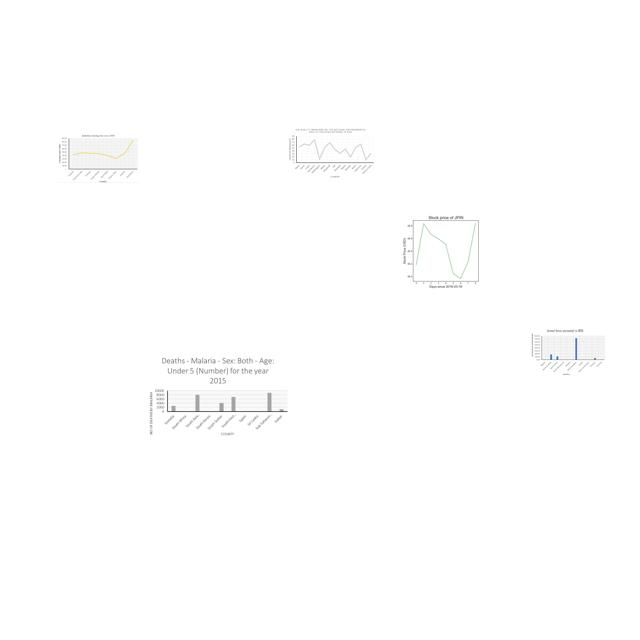Graph: (145, 353, 291, 440), (392, 211, 497, 290), (286, 127, 375, 180), (58, 134, 139, 183), (530, 328, 606, 377)
